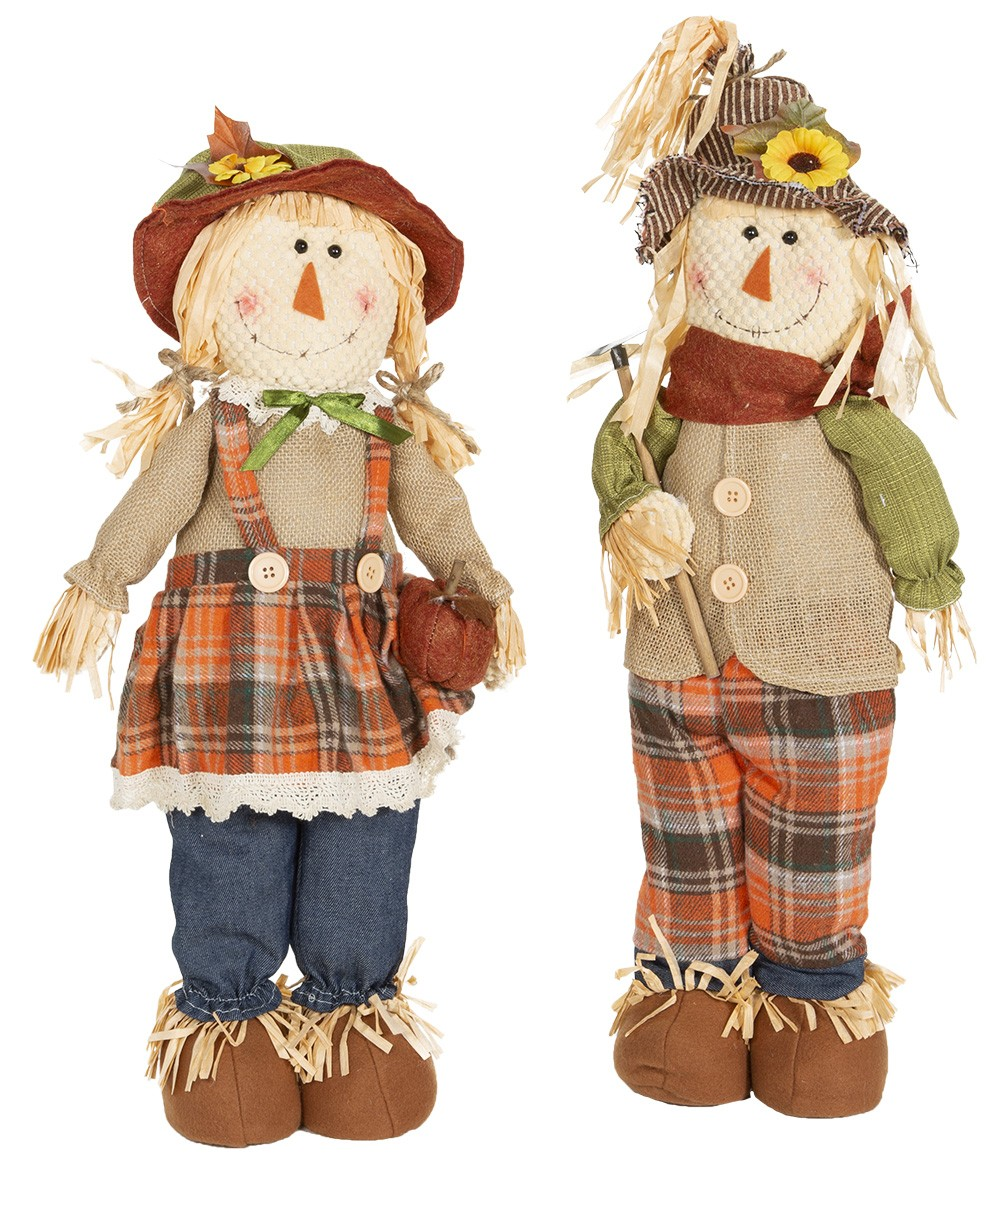person-like: (26, 99, 539, 1159), (567, 7, 987, 1142)
